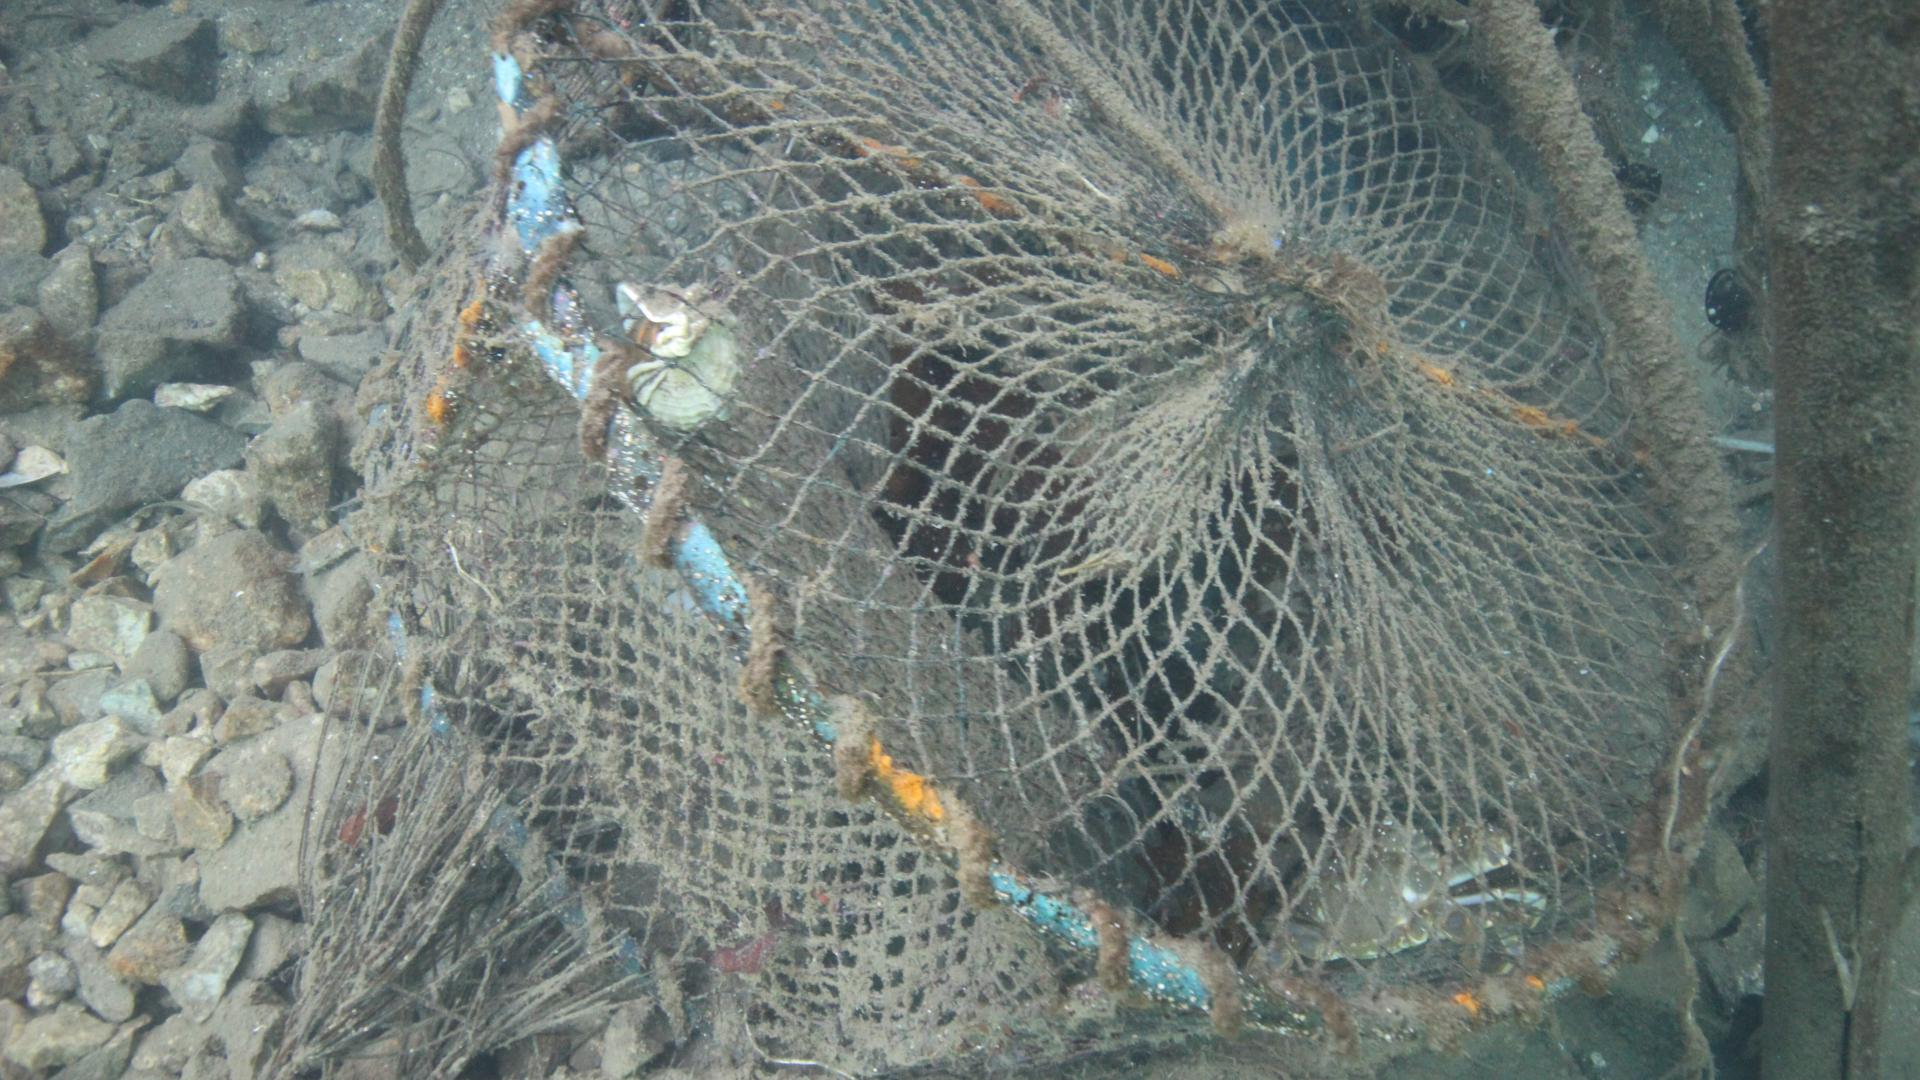circular fish trap: (348, 0, 1708, 1069)
